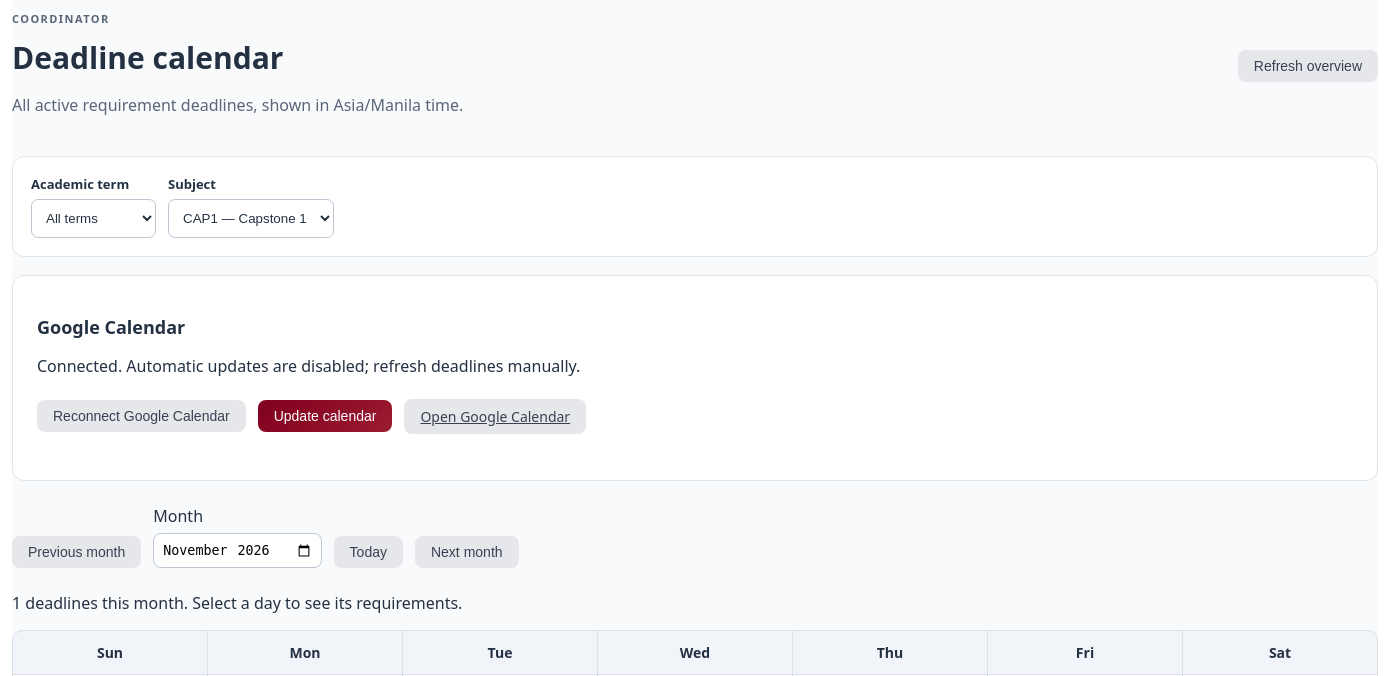
calendar shows sync errors and permits retry
Click the button "Update calendar" at point(325, 416), box [258,400,392,432]
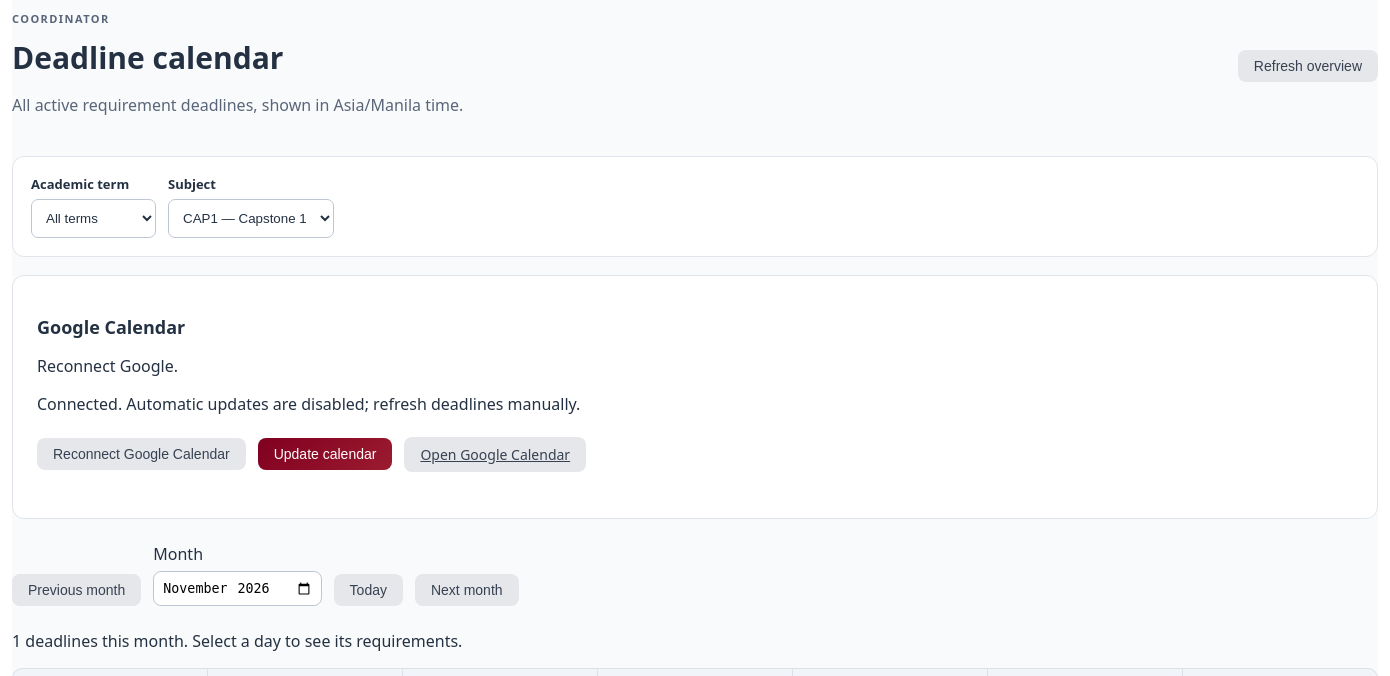
Expected: the button "Update calendar" is enabled, [258,438,392,470]
Result: the message "Reconnect Google." is shown at [37,355,178,377]
